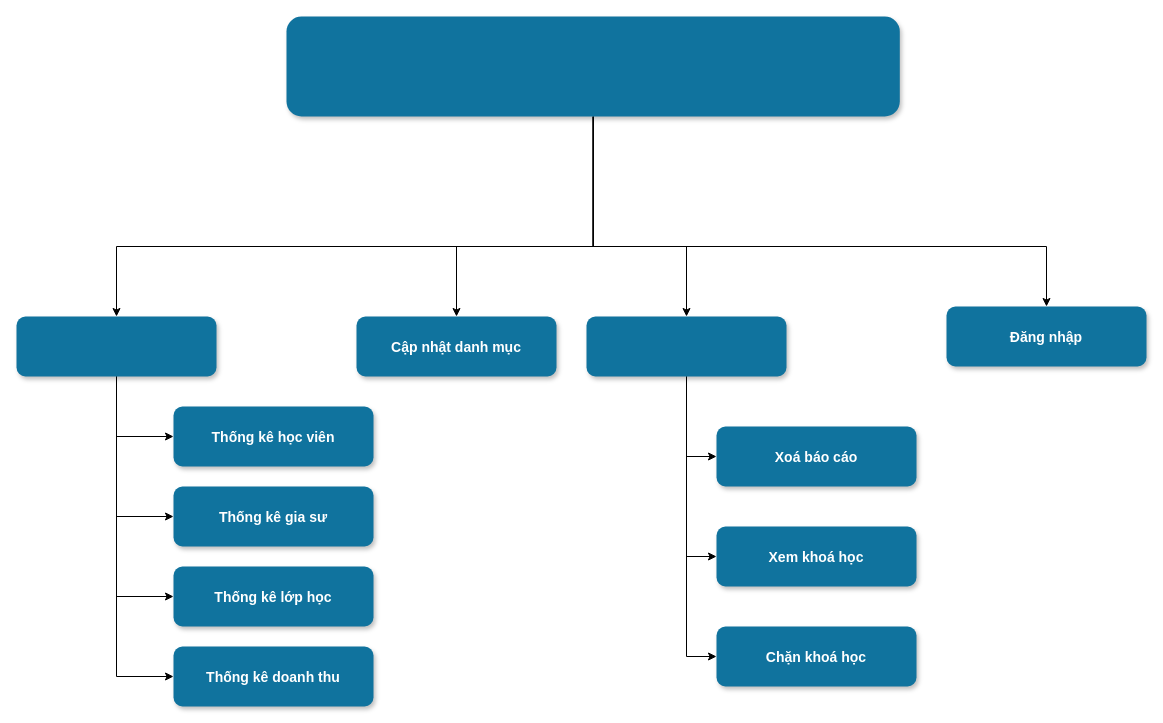
The diagram is 1163 pixels wide and 723 high, and some of its shapes have lost their labels. Here are the shapes that lost their labels. From the top down, the centre of each, then its label:
At point 593,67: "HỆ THỐNG CỘNG ĐỒNG GIA SƯ".
At point 117,347: "Thống kê".
At point 687,347: "Quản lý báo cáo".
